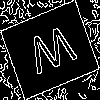W: (25, 24, 82, 84)
